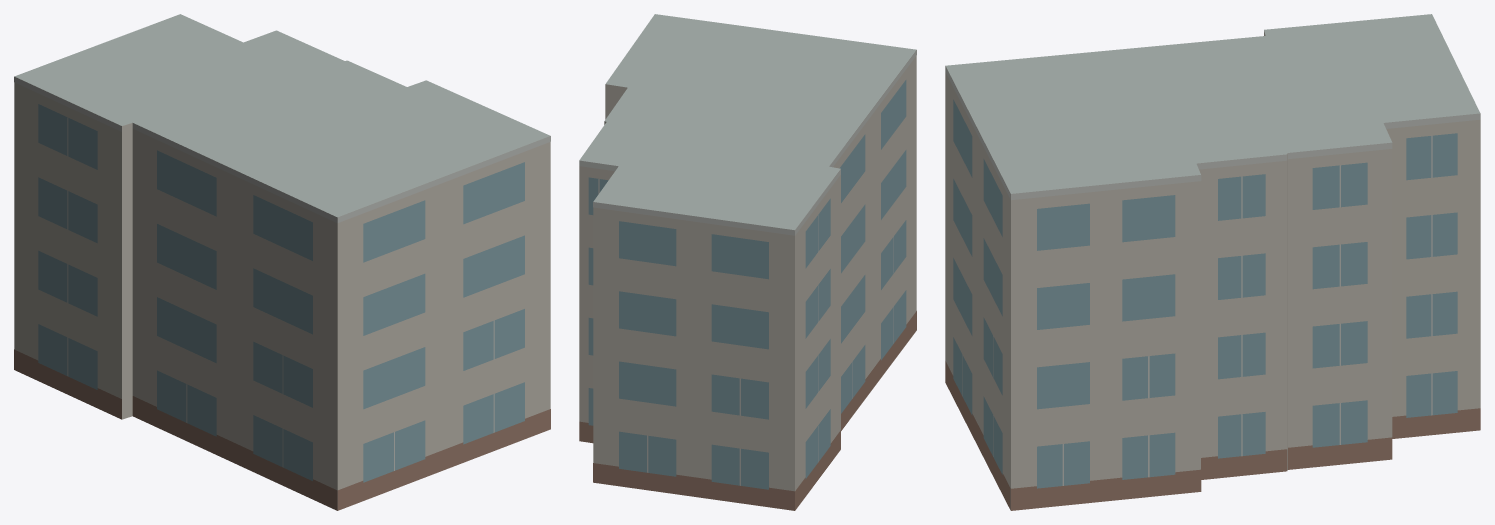
Rendered from survey-upis-32808431.glb.
3 views of the same model, side by side, from view 1: azimuth 30°, elevation 25°; view 2: azimuth 150°, elevation 25°; view 3: azimuth 270°, elevation 25° (orthographic). The views are drawn at different scales.
Parts seen in each view (by area): view 1: survey-upis-32808431.tmp; view 2: survey-upis-32808431.tmp; view 3: survey-upis-32808431.tmp.
Part boxes in pixels (box(x1,y1,x2,y2)): survey-upis-32808431.tmp: box(14, 14, 550, 510); survey-upis-32808431.tmp: box(579, 14, 916, 510); survey-upis-32808431.tmp: box(945, 14, 1480, 510).
Size of the model in its own units: 14.99 by 12.3 by 18.83.
